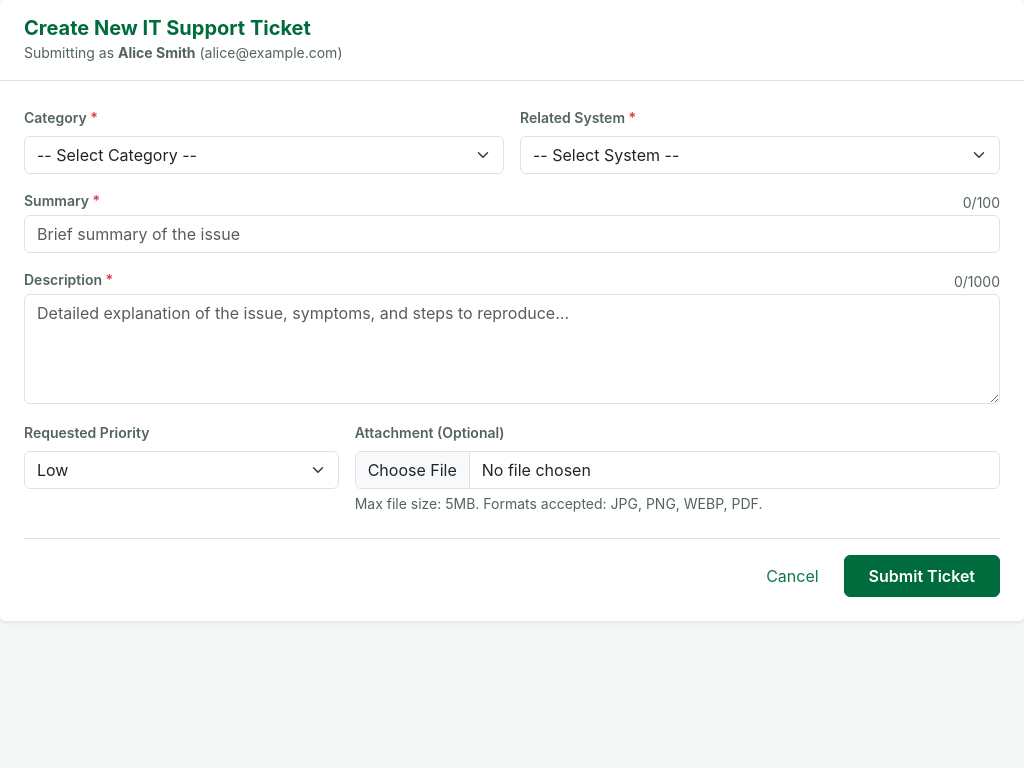
it: CreateTicket Screen (All 6 States) › State 7 (Double Submission Prevention): prevents duplicate ticket creation when submit button is clicked multiple times rapidly
The image size is (1024, 768).
Step 1. Select "Hardware" in the dropdown labelled "Category *" → [264, 155], box [24, 136, 504, 174]
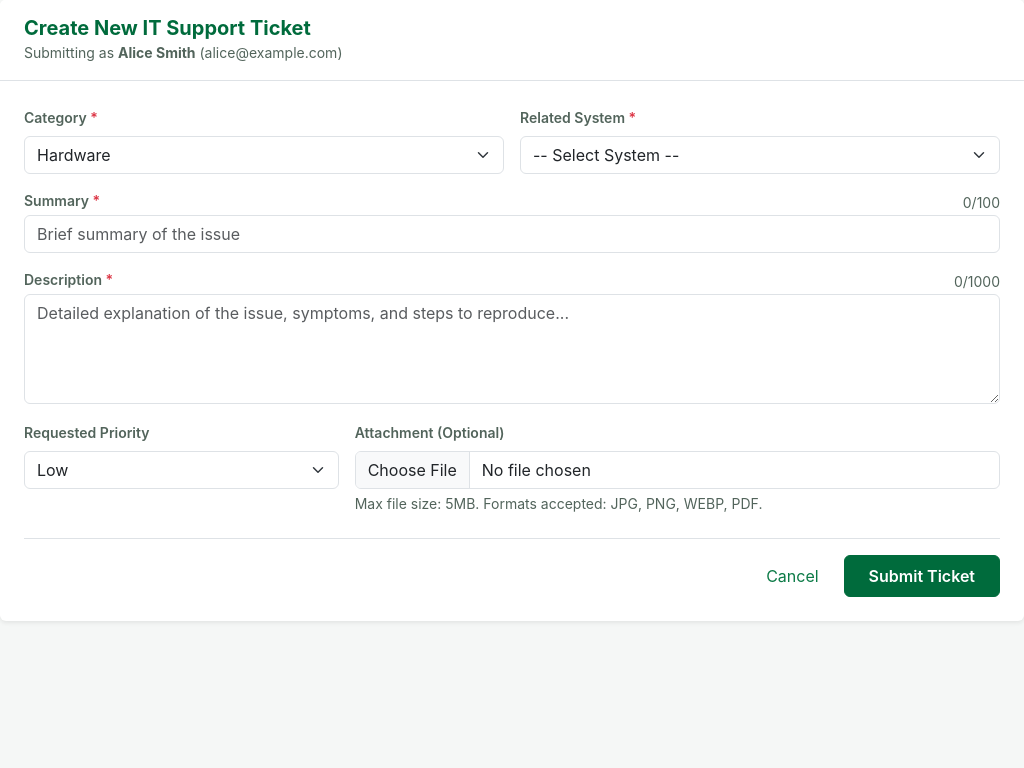
Step 2. Select "Corporate Laptop" in the dropdown labelled "Related System *" → [760, 155], box [520, 136, 1000, 174]
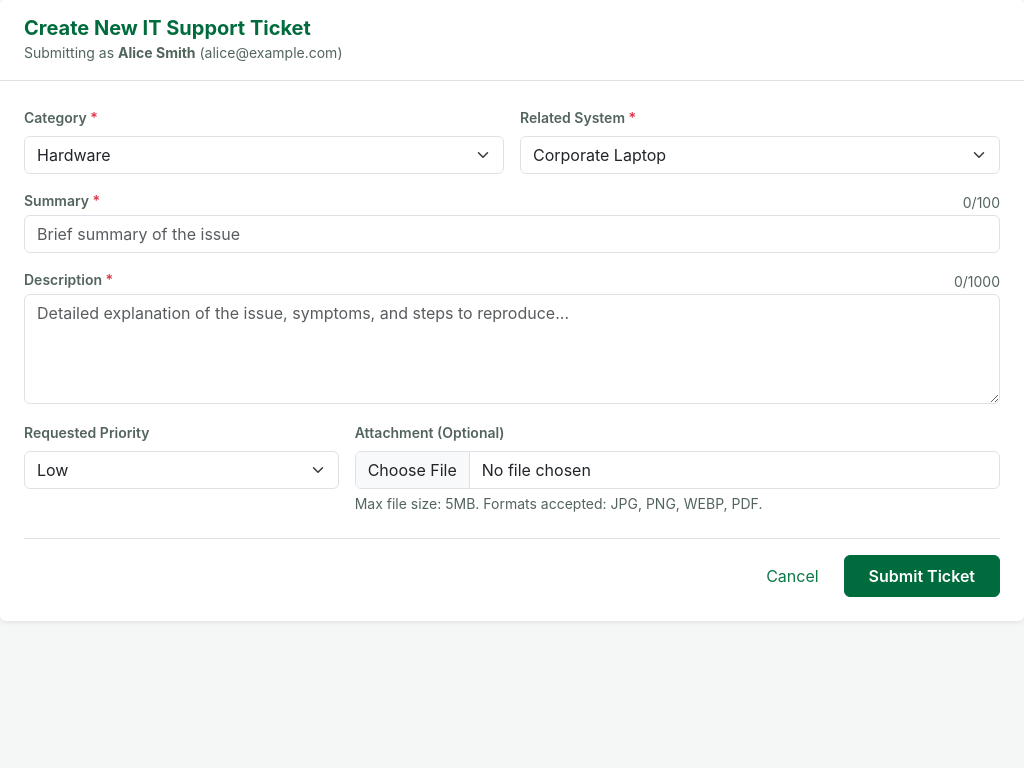
Step 3. Type "Double click test summary" into the field labelled "Summary *" → [512, 234], box [24, 215, 1000, 253]
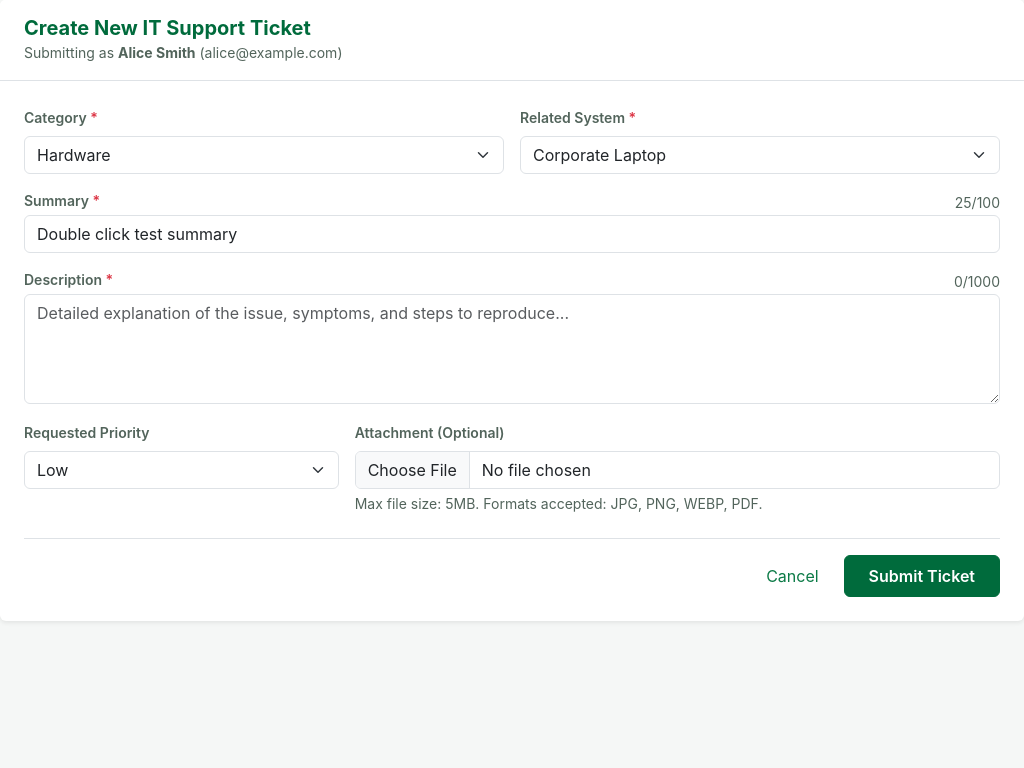
Step 4. Replace the text in the text box labelled "Description *" with "Double click test description" → [512, 349], box [24, 294, 1000, 404]
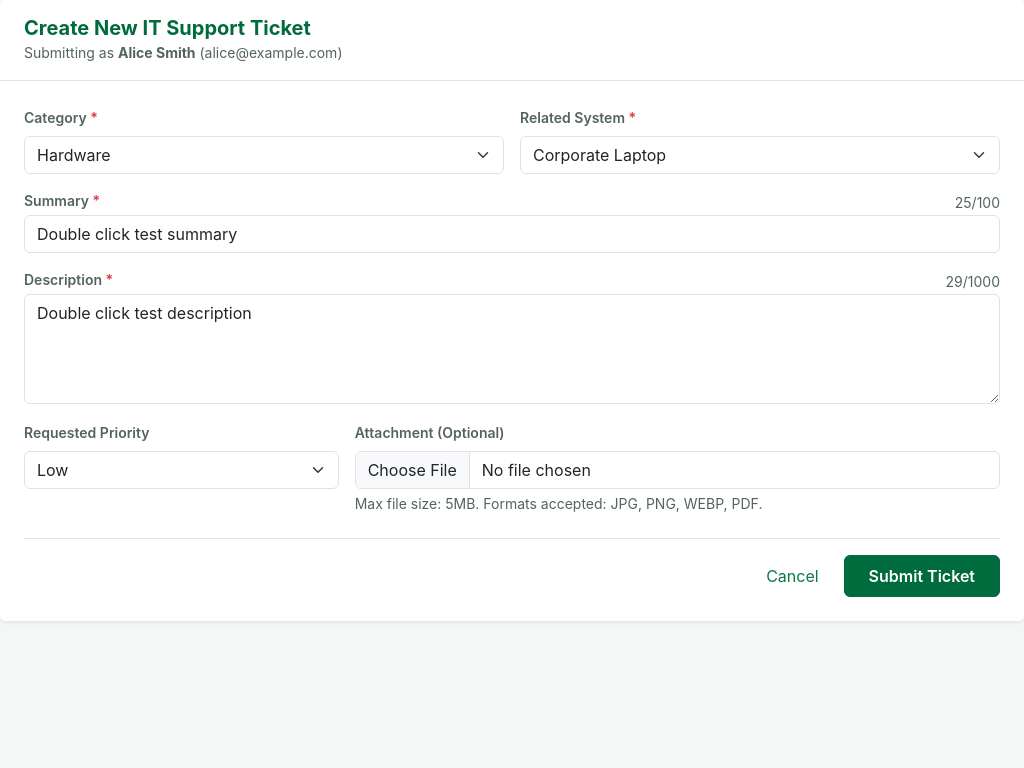
# Fire two rapid clicks
Step 5. Click the button "Submit Ticket" → [922, 576], box [844, 555, 1000, 597]
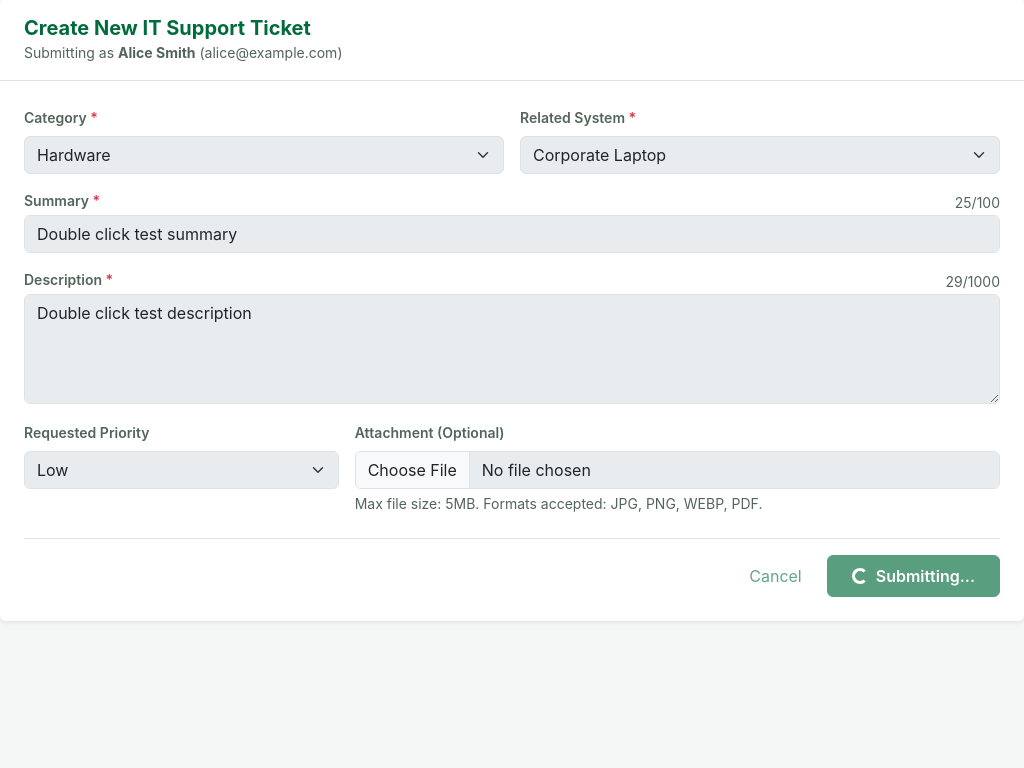
Step 6. Click the button named "submit ticket" → [913, 576], box [827, 555, 1000, 597]
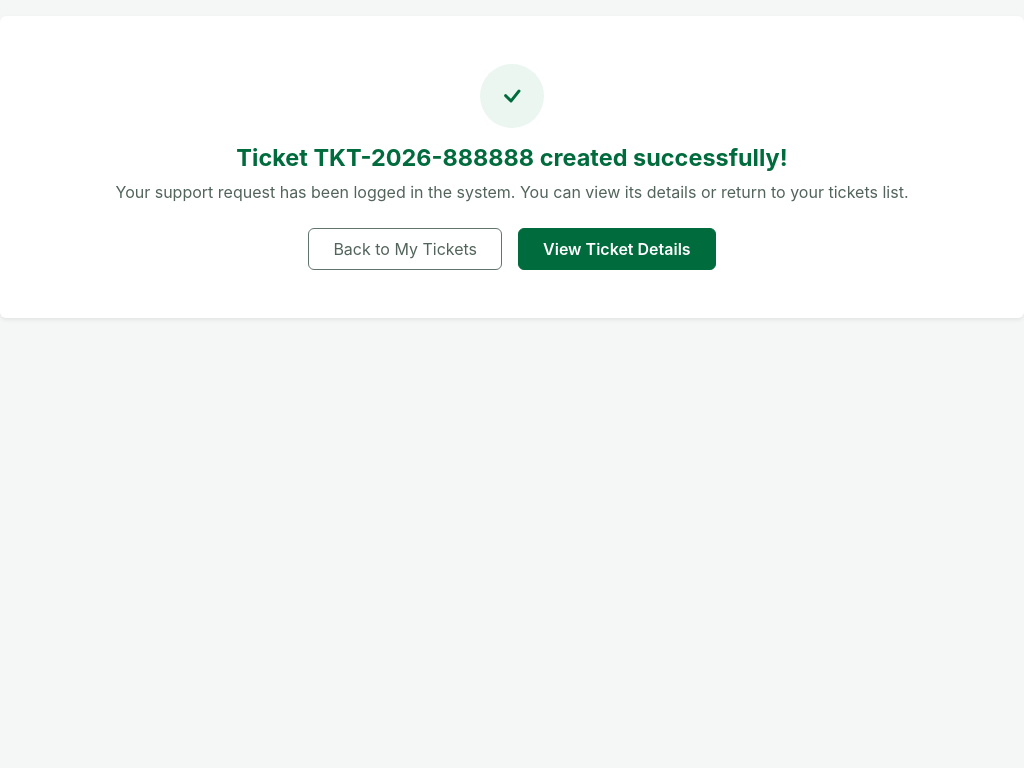
Now the heading "Ticket TKT-2026-888888 created successfully!" is shown, box [236, 143, 788, 172]
